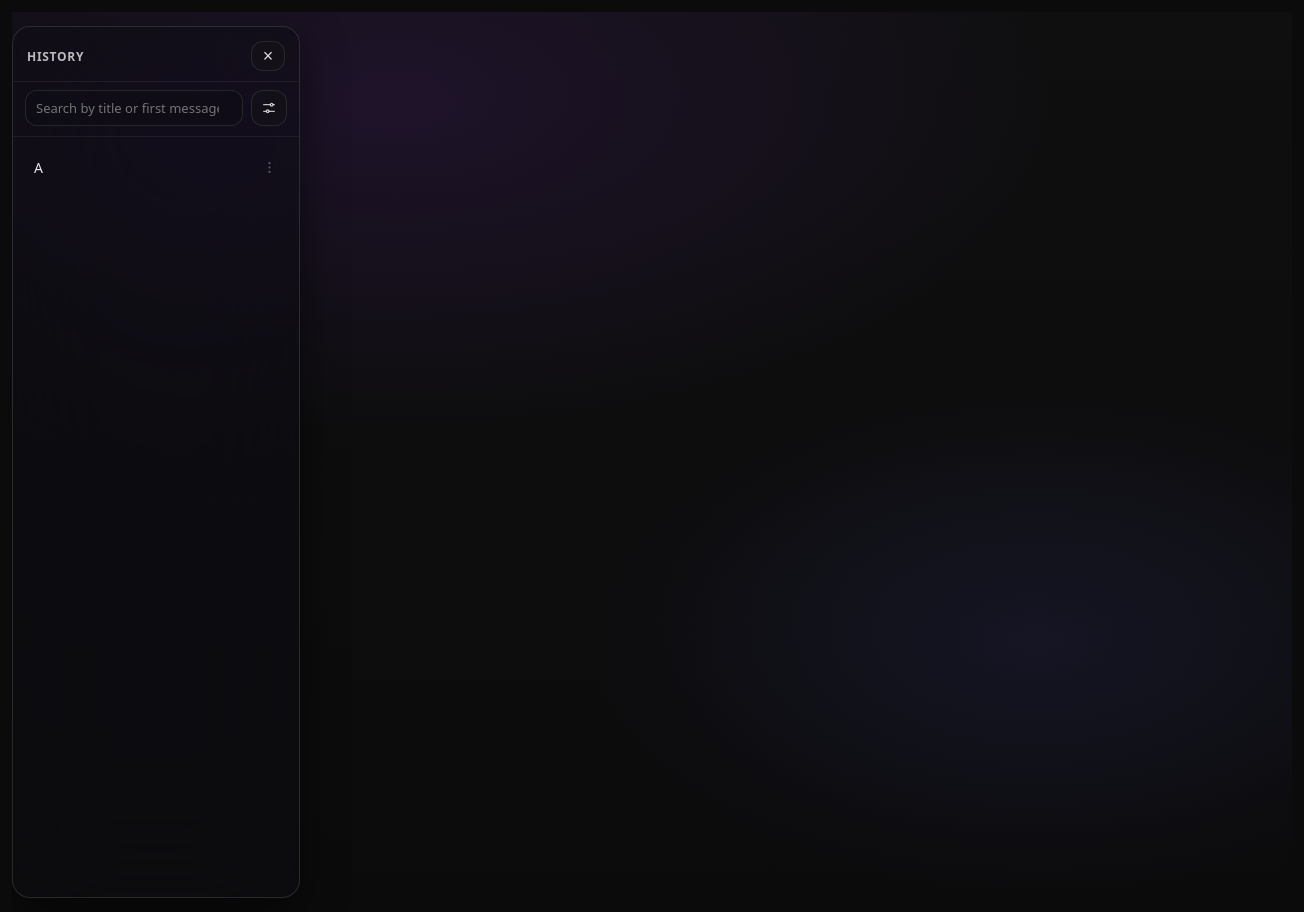
it: escape closes the row menu
Click the button with test id "session-menu-a".
click(269, 167)  # box [256,154,282,180]
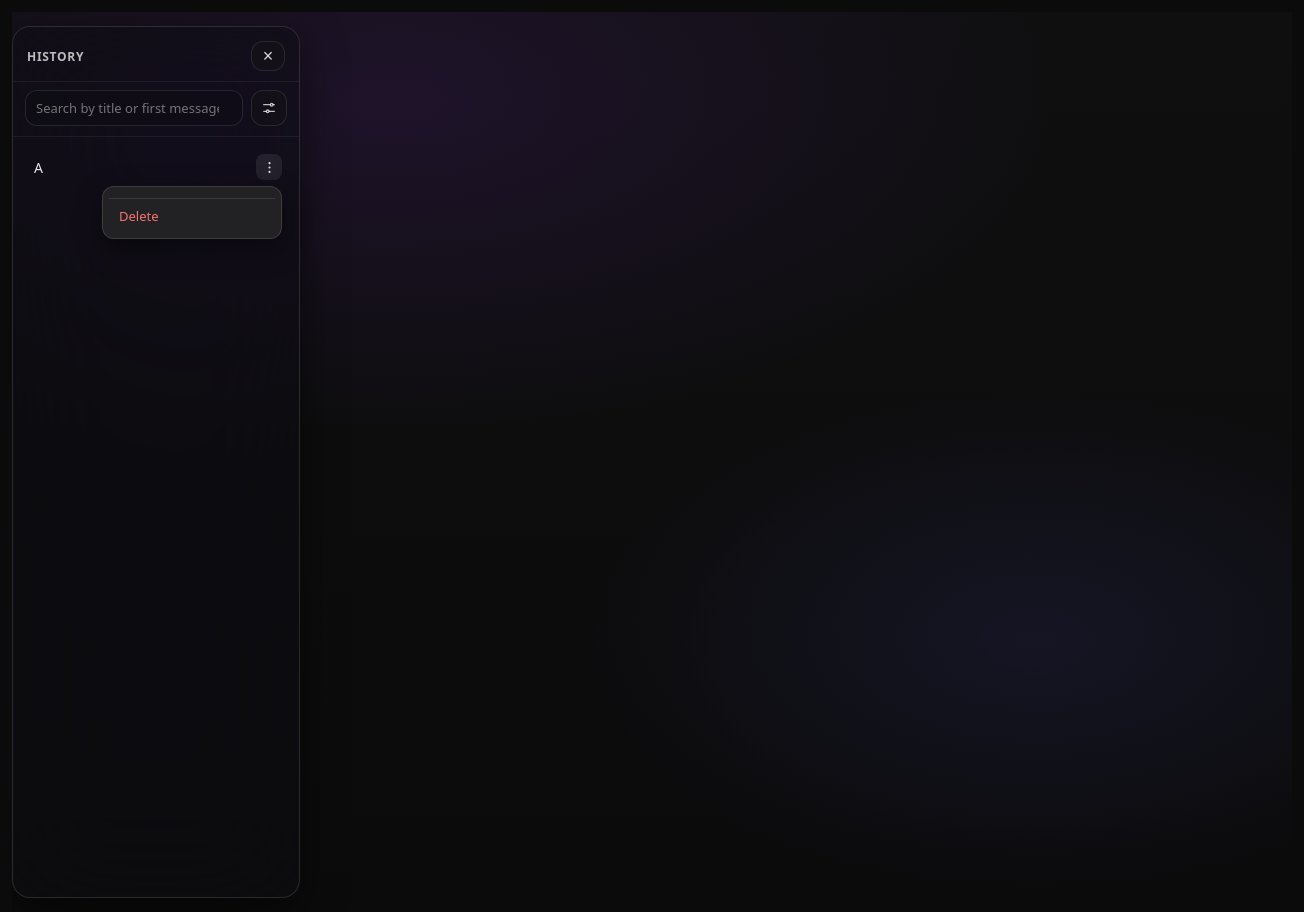
Press Escape
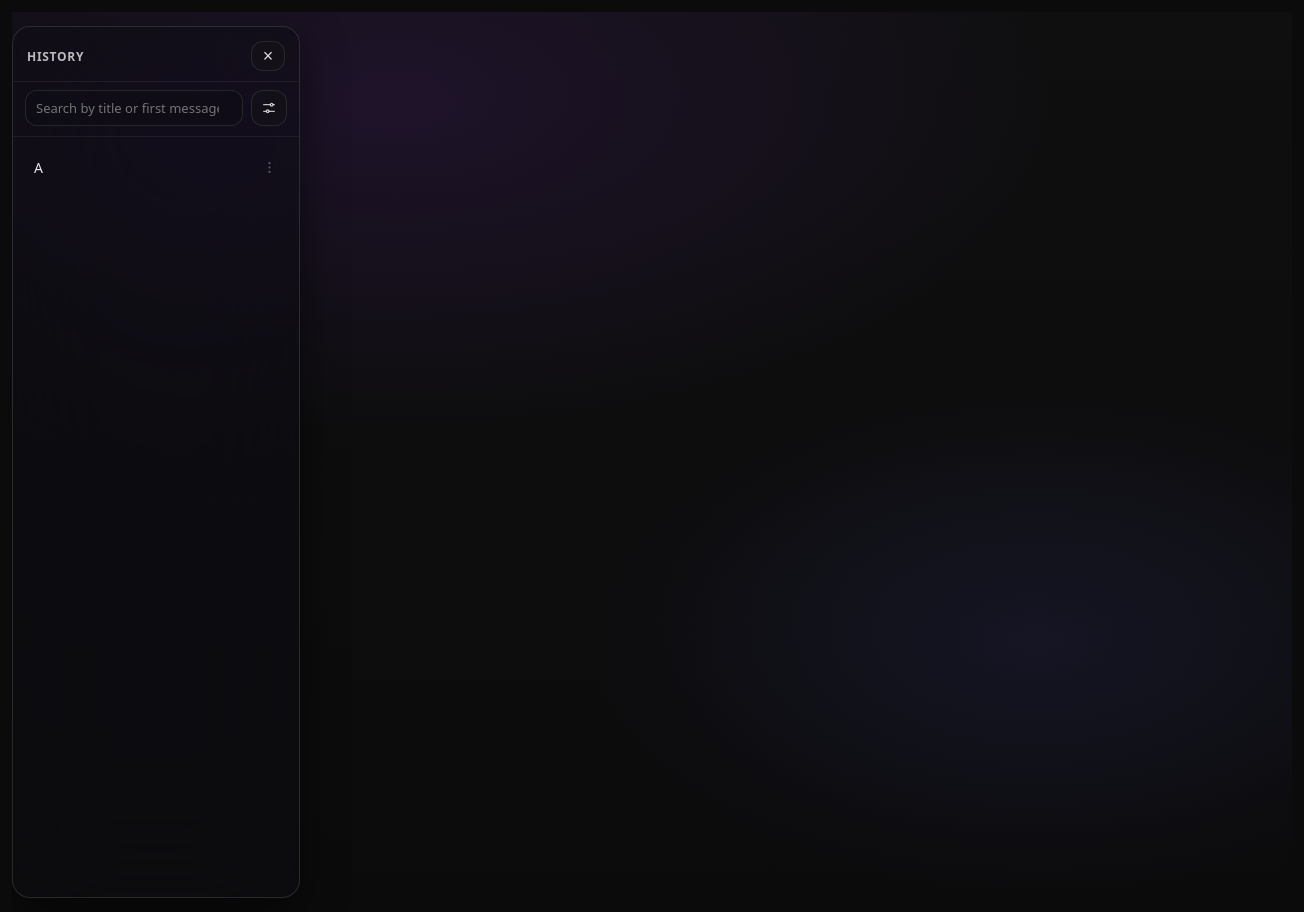
Expected: the menu item with test id "session-menu-delete-a" is gone
